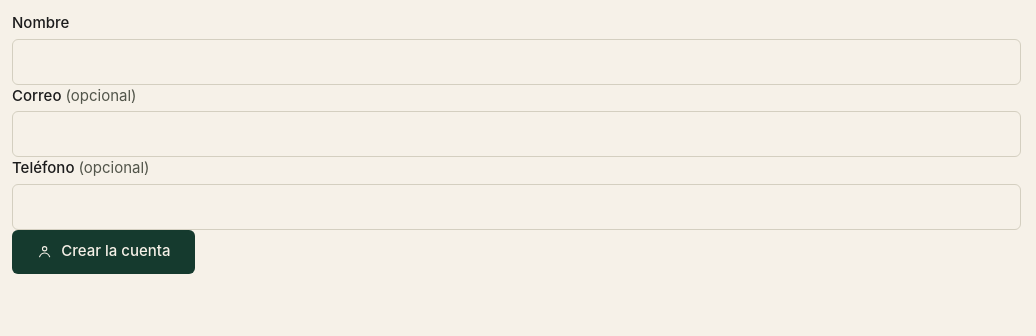
DonorProvisionForm › si la cuenta ya estaba, el alta sigue para otro nombre
Type "Ana" into the field labelled "Nombre" at (516, 62), box [12, 38, 1021, 84]
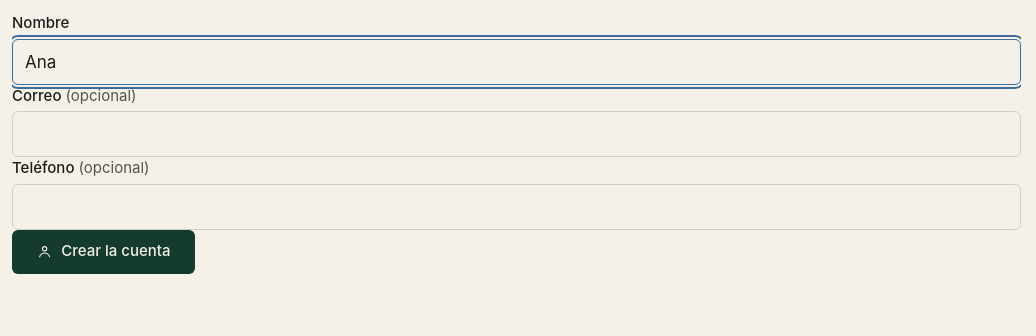
Click the button "Crear la cuenta" at (103, 252), box [12, 230, 195, 274]
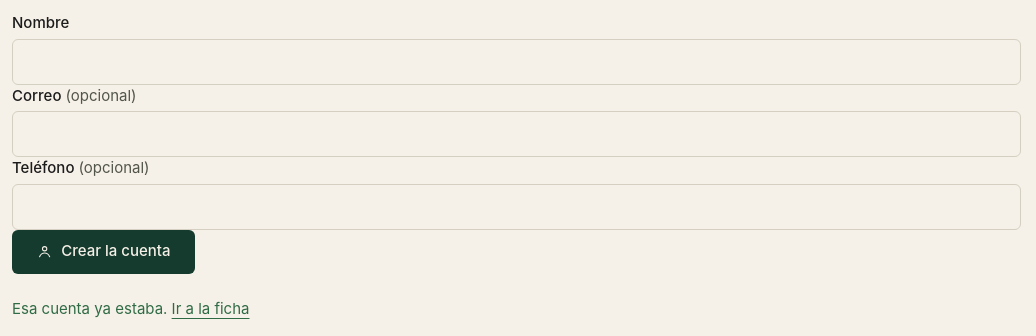
Expected: the text "Esa cuenta ya estaba. Ir a la ficha" is shown, [12, 299, 250, 318]
